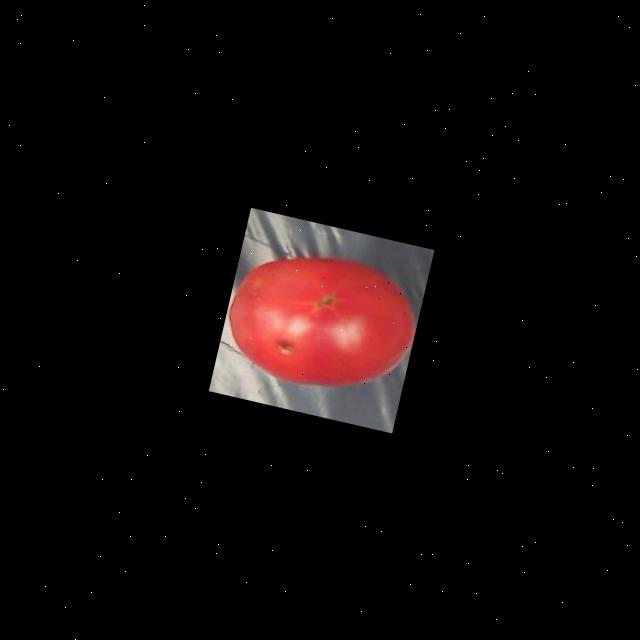tomato: (228, 257, 414, 387)
